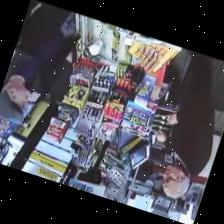person: (0, 3, 76, 123), (155, 50, 215, 198)
